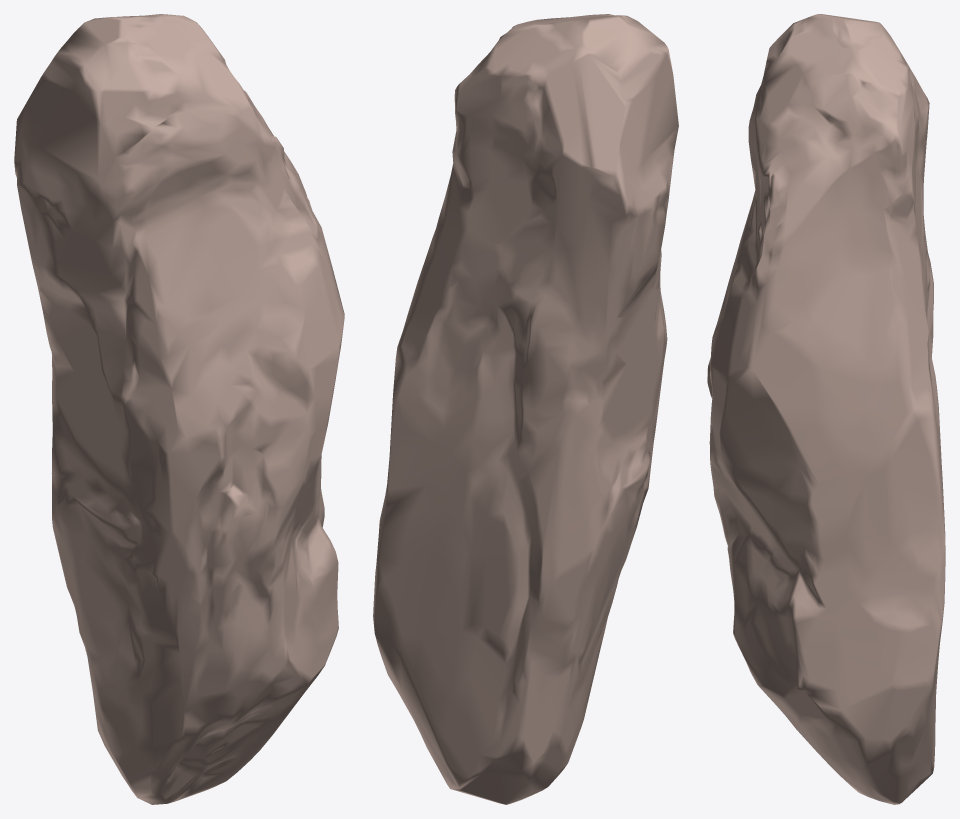
File: rock-3.glb
The picture shows the model from 3 angles, left to right: view 1: azimuth 30°, elevation 25°; view 2: azimuth 150°, elevation 25°; view 3: azimuth 270°, elevation 25°; orthographic projection. The views are drawn at different scales.
Parts seen in each view (by area): view 1: rock-3; view 2: rock-3; view 3: rock-3.
Boxes of the visible parts, bbox=[...] form: rock-3: bbox=[14, 14, 344, 804]; rock-3: bbox=[373, 14, 678, 804]; rock-3: bbox=[707, 14, 945, 804].
Size of the model in its own units: 0.1944 by 0.55 by 0.1601.
